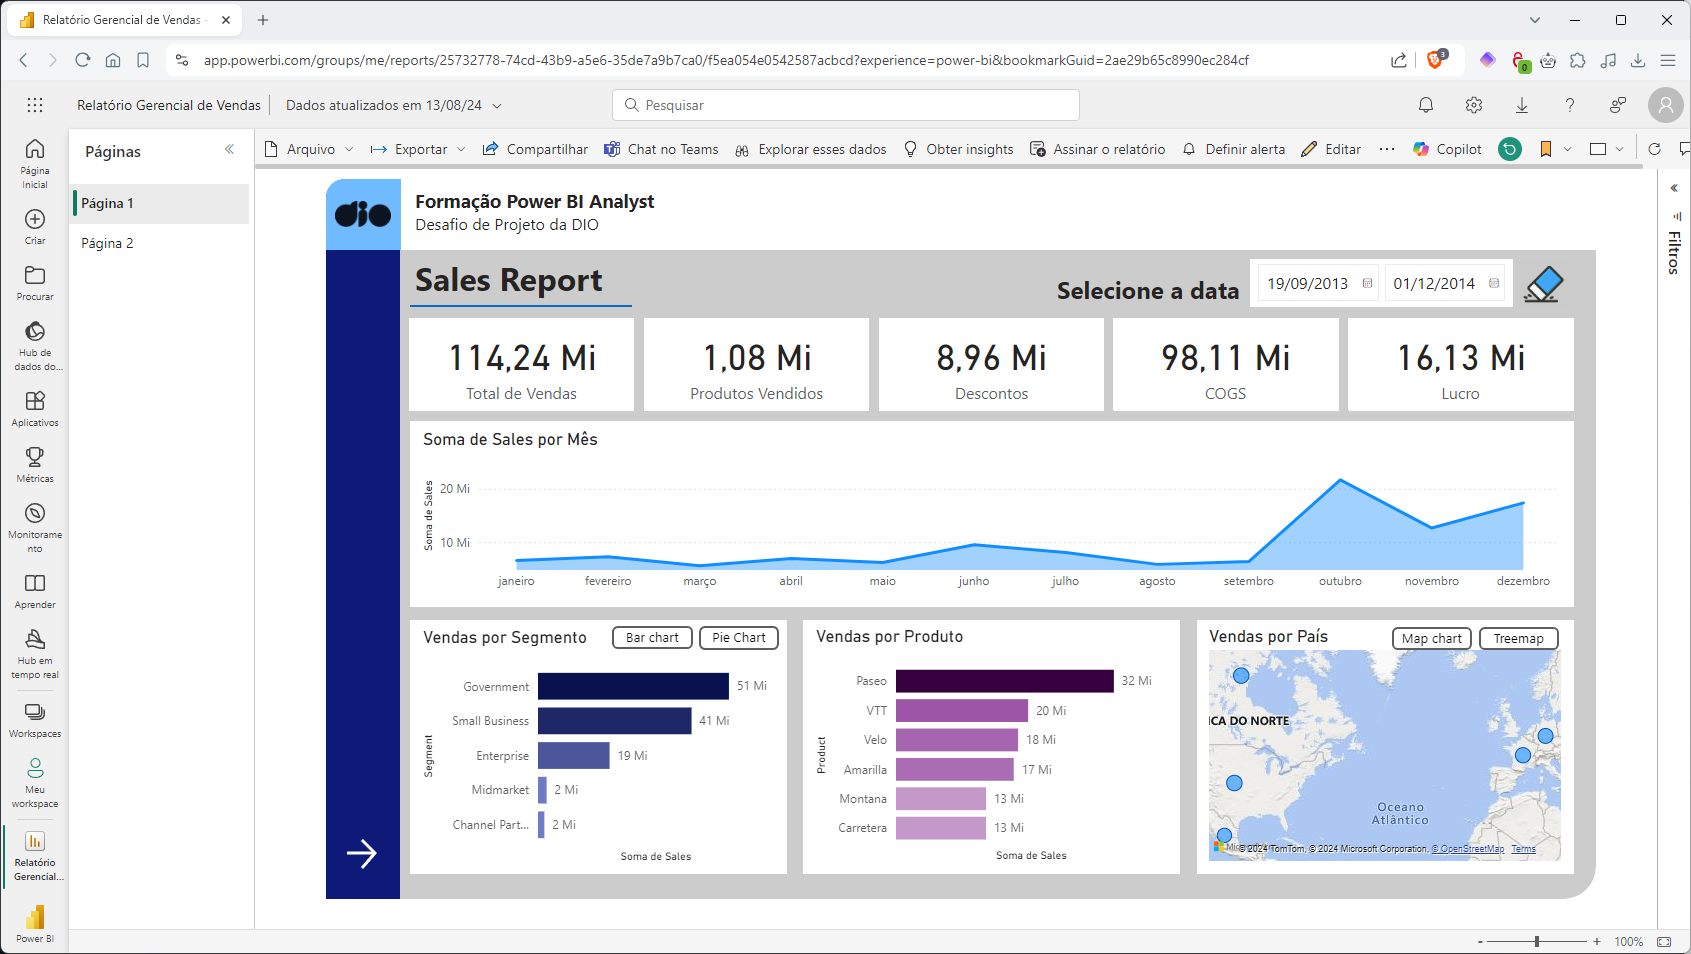

What the dashboard file says about the page in this screenshot:
{"tool":"powerbi","page":{"name":"Página 1","canvas":[1280,720],"ordinal":0},"visuals":[{"type":"group","id":"g1","title":"Plano de fundo","box":[10.3,0,1269.7,720.4],"z":0},{"type":"shape","box":[10.3,0,74.7,720.4],"z":0,"group":"g1"},{"type":"textbox","title":"Título 01","box":[93.7,3.6,261,62.9],"z":0,"group":"g2"},{"type":"slicer","fields":{"Values":["financials.Date"]},"box":[934.6,79.8,262.6,47.9],"z":0,"group":"g3"},{"type":"shape","box":[1033.1,138.8,224.8,92.4],"z":0,"group":"g4"},{"type":"shape","box":[93.7,241.8,1163.7,186.2],"z":0,"group":"g5"},{"type":"shape","box":[880.5,441.1,377,253.9],"z":0,"group":"g6"},{"type":"actionButton","title":"Seta","box":[24.5,654.5,45.3,39.5],"z":0,"group":"g9"},{"type":"shape","box":[10.3,0,74.7,71.2],"z":1000,"group":"g1"},{"type":"group","id":"g2","title":"Títulos","box":[93.7,3.6,261,155.4],"z":1000},{"type":"textbox","title":"Título 02","box":[93.7,71.2,221.8,67.6],"z":1000,"group":"g2"},{"type":"textbox","box":[736.1,89.3,201.2,47.2],"z":1000,"group":"g3"},{"type":"card","fields":{"Values":["Sum(financials.Profit)"]},"box":[1032.6,138.6,224.8,92.4],"z":1000,"group":"g4"},{"type":"areaChart","fields":{"Category":["financials.Date.Variation.Hierarquia de datas.Mês"],"Y":["Sum(financials. Sales)"]},"box":[102,250.3,1147.1,169.6],"z":1000,"group":"g5"},{"type":"actionButton","title":"Treemap","box":[1162.7,447.6,80.2,23.3],"z":1000,"group":"g10"},{"type":"actionButton","box":[19.8,654.5,50,39.5],"z":1000,"group":"g9"},{"type":"image","title":"Clean","box":[1196.9,74.9,60.6,58.5],"z":1500,"group":"g3"},{"type":"actionButton","title":"Map chart","box":[1075.5,447.6,80.2,23.3],"z":1500,"group":"g10"},{"type":"image","title":"Logo","box":[10.9,1.8,71.9,66.5],"z":2000,"group":"g1"},{"type":"group","id":"g3","title":"Filtro por data","box":[736.1,74.9,521.4,61.6],"z":2000},{"type":"actionButton","box":[1201.1,78,51.3,50.3],"z":2000,"group":"g3"},{"type":"shape","box":[93.7,94.9,221.8,64.1],"z":2000,"group":"g2"},{"type":"shape","box":[798.3,138.8,224.8,92.4],"z":2000,"group":"g4"},{"type":"treemap","title":"Vendas por País","fields":{"Group":["financials.Country"],"Values":["Sum(financials. Sales)"]},"box":[888.8,447.6,361.3,238.1],"z":2000,"group":"g6"},{"type":"shape","box":[487.1,441.1,377,253.9],"z":2500,"group":"g7"},{"type":"shape","box":[85,0,1195,71.2],"z":3000,"group":"g1"},{"type":"group","id":"g4","title":"Cartões","box":[93.4,138.6,1164.5,92.7],"z":3000},{"type":"card","fields":{"Values":["Sum(financials.COGS)"]},"box":[797.6,138.6,224.8,92.4],"z":3000,"group":"g4"},{"type":"clusteredBarChart","title":"Vendas por Produto","fields":{"Y":["Sum(financials. Sales)"],"Category":["financials.Product"]},"box":[494.7,447.5,361.3,239.2],"z":3000,"group":"g7"},{"type":"shape","box":[93.7,441.1,377,253.9],"z":3296,"group":"g8"},{"type":"clusteredBarChart","title":"Vendas por Segmento","fields":{"Y":["Sum(financials. Sales)"],"Category":["financials.Segment"]},"box":[101.6,448.6,361.3,239.2],"z":3593,"group":"g8"},{"type":"shape","box":[83.8,71.2,1196.1,649.2],"z":4000,"group":"g1"},{"type":"shape","box":[563.4,138.8,224.8,92.4],"z":4000,"group":"g4"},{"type":"group","id":"g5","title":"Gráfico principal","box":[93.7,241.8,1163.7,186.2],"z":4000},{"type":"actionButton","title":"Botão Pie chart","box":[382.5,447.6,80.2,23.3],"z":4437,"group":"g8"},{"type":"actionButton","title":"Botão Bar chart","box":[296.1,447.1,80.2,23.3],"z":4687,"group":"g8"},{"type":"card","fields":{"Values":["Sum(financials.Discounts)"]},"box":[563.5,138.6,224.8,92.4],"z":5000,"group":"g4"},{"type":"group","id":"g6","title":"Vendas x País","box":[880.5,441.1,377,253.9],"z":5000},{"type":"group","id":"g7","title":"Vendas x Produto","box":[487.1,441.1,377,253.9],"z":5375},{"type":"group","id":"g8","title":"Vendas x Segmento","box":[93.7,441.1,377,253.9],"z":5750},{"type":"shape","box":[328.6,138.8,224.8,92.4],"z":6000,"group":"g4"},{"type":"group","id":"g9","title":"Botão seta","box":[19.8,654.5,50,39.5],"z":6500},{"type":"card","fields":{"Values":["Sum(financials.Units Sold)"]},"box":[328.5,138.6,224.8,92.4],"z":7000,"group":"g4"},{"type":"group","id":"g10","title":"Botões VxP","box":[1075.5,447.6,167.4,23.3],"z":7000},{"type":"shape","box":[93.7,138.8,224.8,92.4],"z":8000,"group":"g4"},{"type":"card","fields":{"Values":["Sum(financials. Sales)"]},"box":[93.4,138.6,224.8,92.4],"z":9000,"group":"g4"}]}

Visuals, with their boxes on the page's 1280x720 design canvas (x1, y1, x2, y2). These are canvas units, not pixel positions in the 1691x954 screenshot, which may show the page scaled, cropped or inside an application window:
"Plano de fundo" group: detection(10, 0, 1280, 720)
shape: detection(10, 0, 85, 720)
"Título 01" textbox: detection(94, 4, 355, 66)
slicer - financials.Date: detection(935, 80, 1197, 128)
shape: detection(1033, 139, 1258, 231)
shape: detection(94, 242, 1257, 428)
shape: detection(880, 441, 1258, 695)
"Seta" actionButton: detection(24, 654, 70, 694)
shape: detection(10, 0, 85, 71)
"Títulos" group: detection(94, 4, 355, 159)
"Título 02" textbox: detection(94, 71, 316, 139)
textbox: detection(736, 89, 937, 136)
card - Sum(financials.Profit): detection(1033, 139, 1257, 231)
areaChart - financials.Date.Variation.Hierarquia de datas.Mês x Sum(financials. Sales): detection(102, 250, 1249, 420)
"Treemap" actionButton: detection(1163, 448, 1243, 471)
actionButton: detection(20, 654, 70, 694)
"Clean" image: detection(1197, 75, 1258, 133)
"Map chart" actionButton: detection(1076, 448, 1156, 471)
"Logo" image: detection(11, 2, 83, 68)
"Filtro por data" group: detection(736, 75, 1258, 136)
actionButton: detection(1201, 78, 1252, 128)
shape: detection(94, 95, 316, 159)
shape: detection(798, 139, 1023, 231)
"Vendas por País" treemap: detection(889, 448, 1250, 686)
shape: detection(487, 441, 864, 695)
shape: detection(85, 0, 1280, 71)
"Cartões" group: detection(93, 139, 1258, 231)
card - Sum(financials.COGS): detection(798, 139, 1022, 231)
"Vendas por Produto" clusteredBarChart: detection(495, 448, 856, 687)
shape: detection(94, 441, 471, 695)
"Vendas por Segmento" clusteredBarChart: detection(102, 449, 463, 688)
shape: detection(84, 71, 1280, 720)
shape: detection(563, 139, 788, 231)
"Gráfico principal" group: detection(94, 242, 1257, 428)
"Botão Pie chart" actionButton: detection(382, 448, 463, 471)
"Botão Bar chart" actionButton: detection(296, 447, 376, 470)
card - Sum(financials.Discounts): detection(564, 139, 788, 231)
"Vendas x País" group: detection(880, 441, 1258, 695)
"Vendas x Produto" group: detection(487, 441, 864, 695)
"Vendas x Segmento" group: detection(94, 441, 471, 695)
shape: detection(329, 139, 553, 231)
"Botão seta" group: detection(20, 654, 70, 694)
card - Sum(financials.Units Sold): detection(328, 139, 553, 231)
"Botões VxP" group: detection(1076, 448, 1243, 471)
shape: detection(94, 139, 318, 231)
card - Sum(financials. Sales): detection(93, 139, 318, 231)
